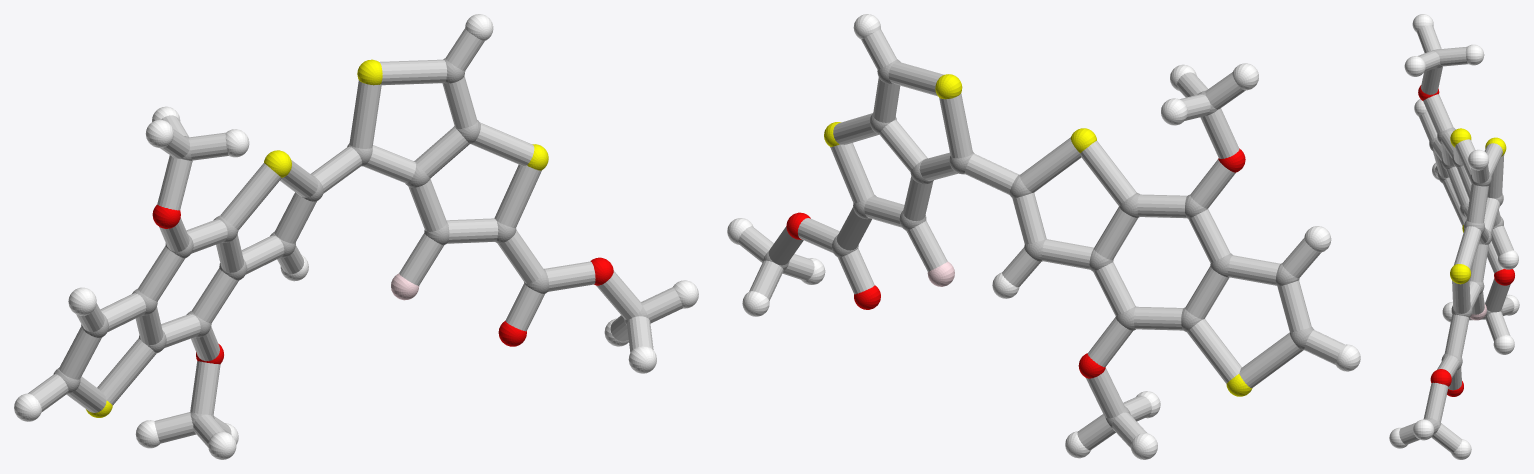
File: color.glb
3 views of the same model, side by side, from view 1: azimuth 30°, elevation 25°; view 2: azimuth 150°, elevation 25°; view 3: azimuth 270°, elevation 25° (orthographic). The views are drawn at different scales.
Visible parts, largest first — view 1: grp15205, grp8689, grp1, grp7241, grp13395; view 2: grp15205, grp8689, grp1, grp13395, grp7241; view 3: grp15205, grp8689, grp1, grp13395, grp7241.
Boxes of the visible parts, x1=… form: grp15205: x1=28, y1=29, x2=682, y2=447; grp8689: x1=14, y1=14, x2=698, y2=459; grp1: x1=53, y1=58, x2=648, y2=434; grp7241: x1=86, y1=59, x2=548, y2=417; grp13395: x1=152, y1=204, x2=613, y2=364; grp15205: x1=738, y1=29, x2=1344, y2=450; grp8689: x1=727, y1=14, x2=1360, y2=459; grp1: x1=763, y1=59, x2=1314, y2=427; grp13395: x1=786, y1=148, x2=1245, y2=378; grp7241: x1=824, y1=74, x2=1252, y2=396; grp15205: x1=1399, y1=25, x2=1514, y2=452; grp8689: x1=1389, y1=14, x2=1519, y2=459; grp1: x1=1423, y1=49, x2=1503, y2=429; grp13395: x1=1418, y1=85, x2=1514, y2=396; grp7241: x1=1450, y1=128, x2=1506, y2=284.
Bounding box in the file's own units: 16.31 × 9.27 × 3.7.
